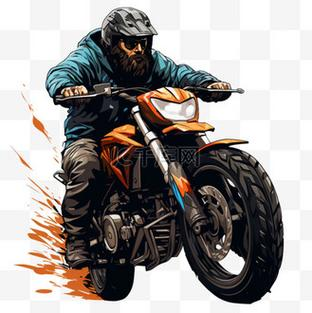摩托车: (59, 92, 296, 307)
